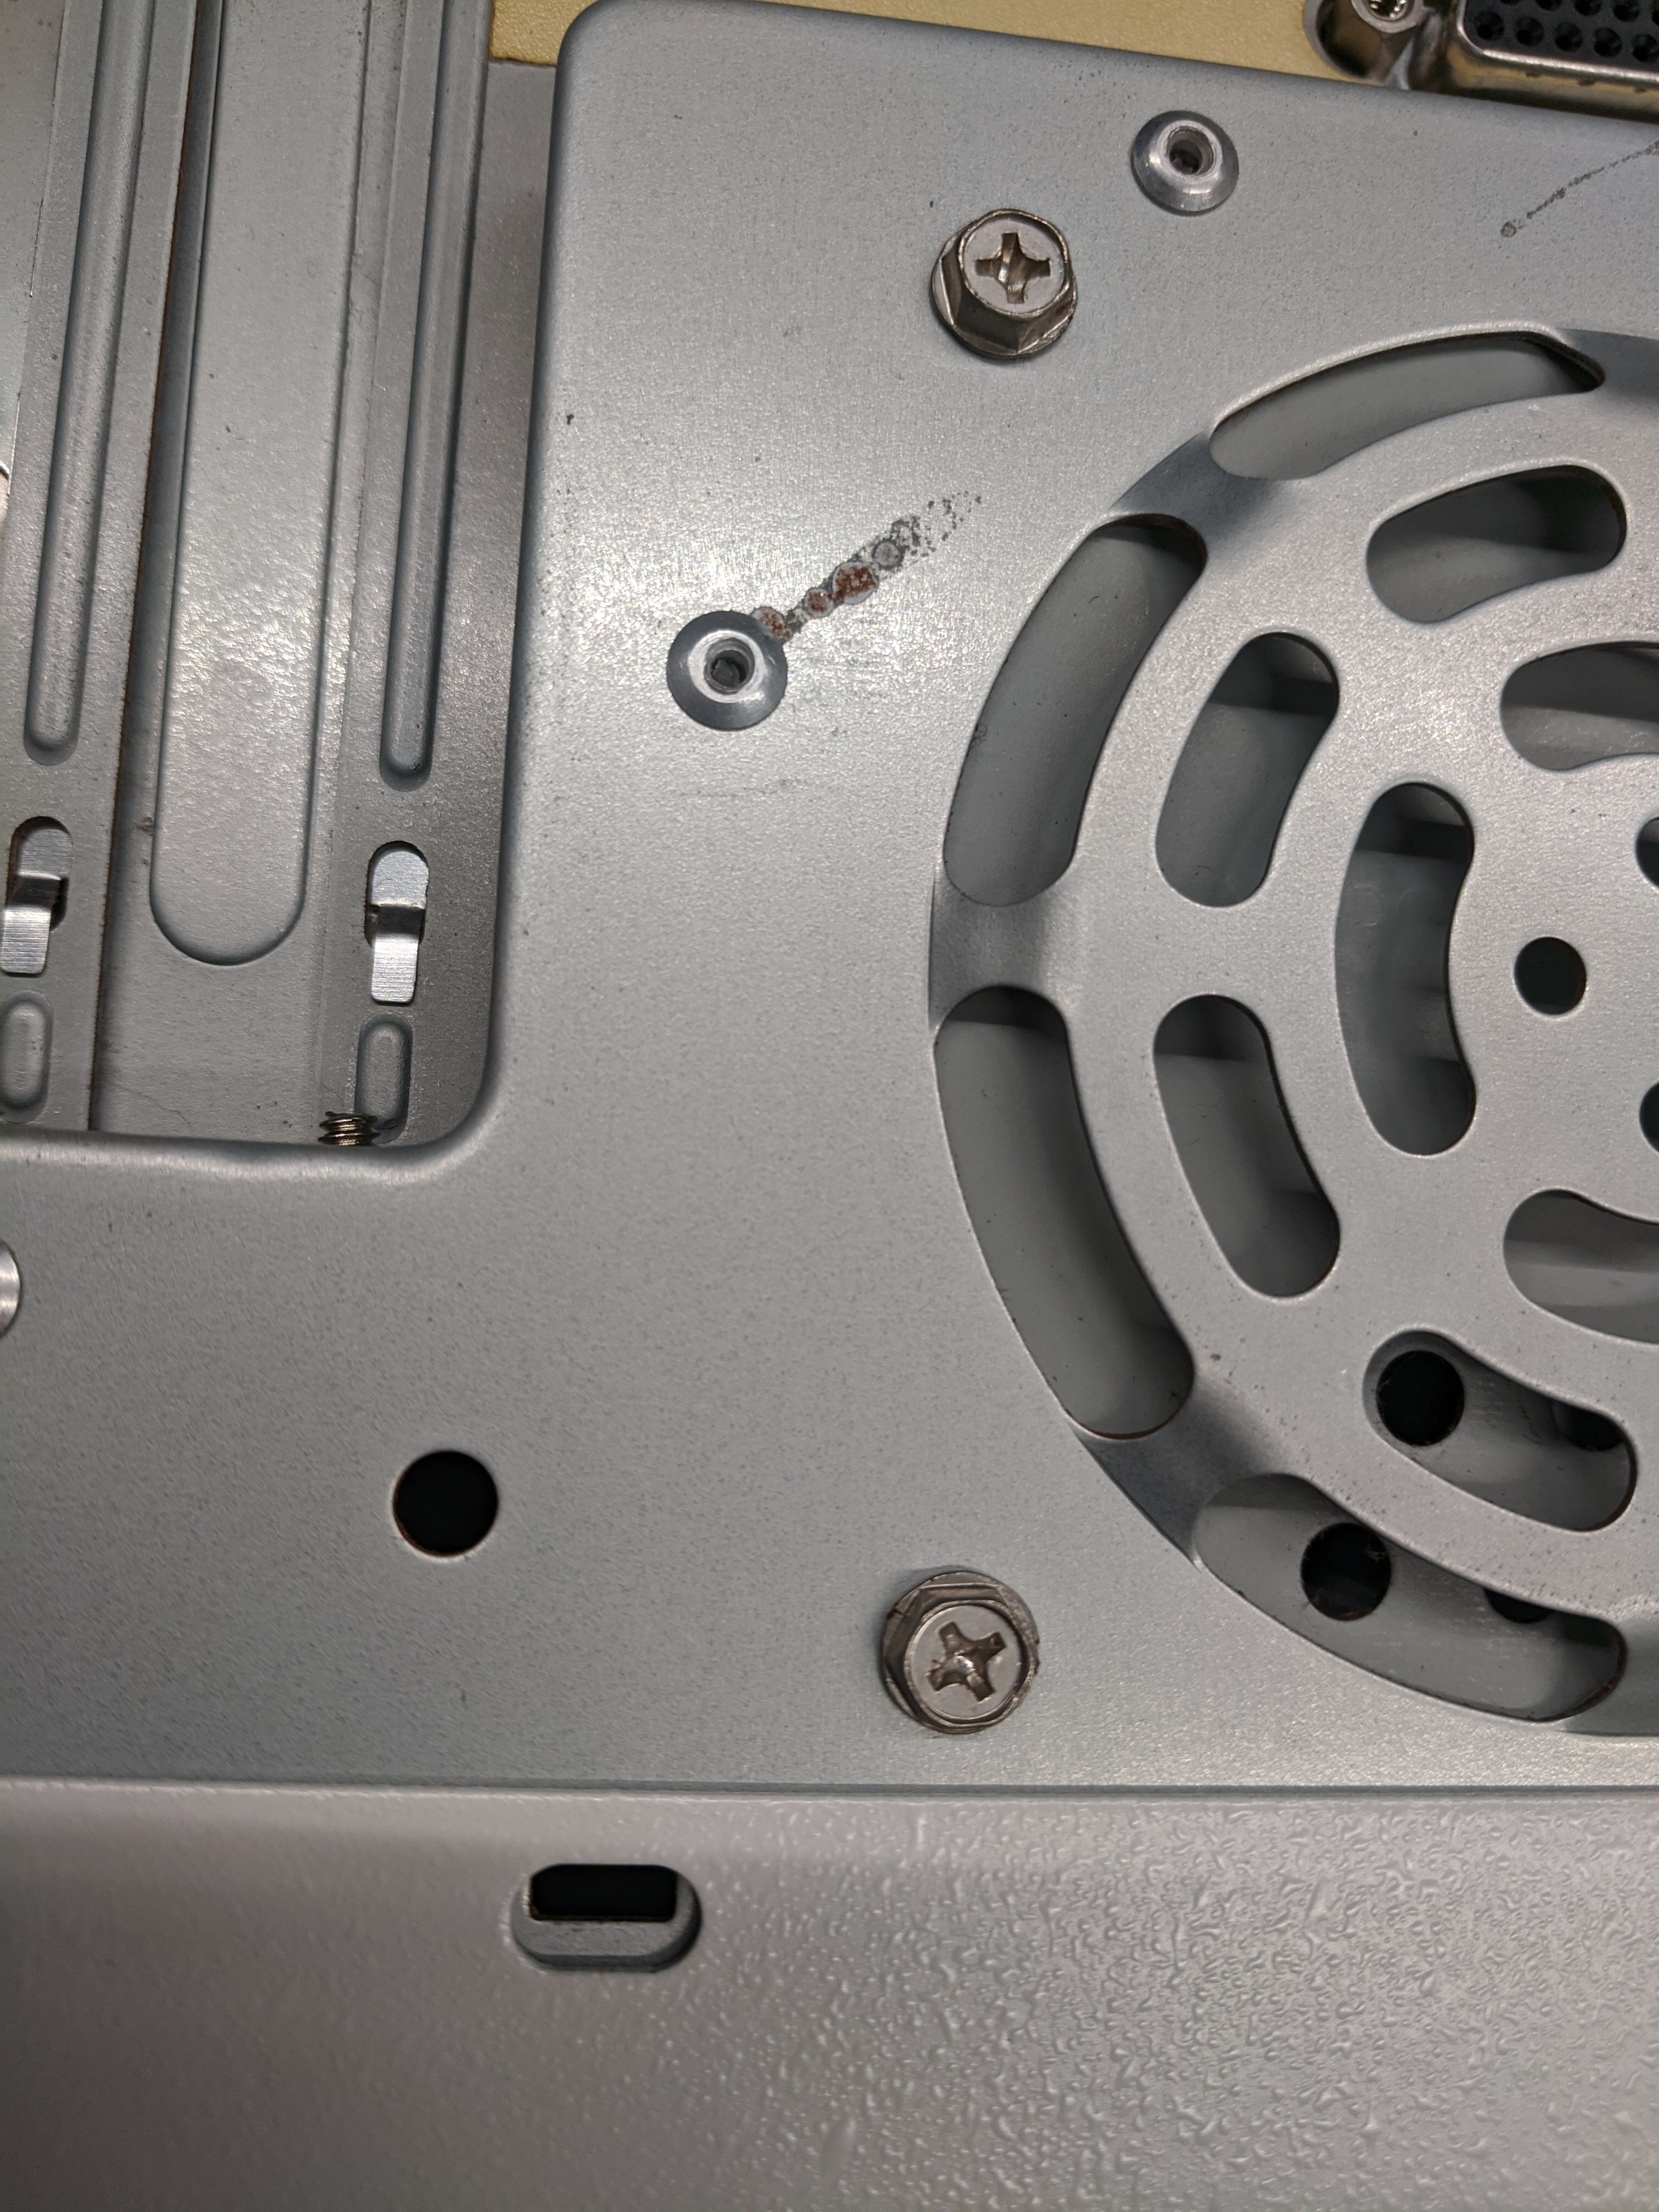cross_recessed_screw: (884, 1564, 1046, 1749), (938, 195, 1082, 334)
